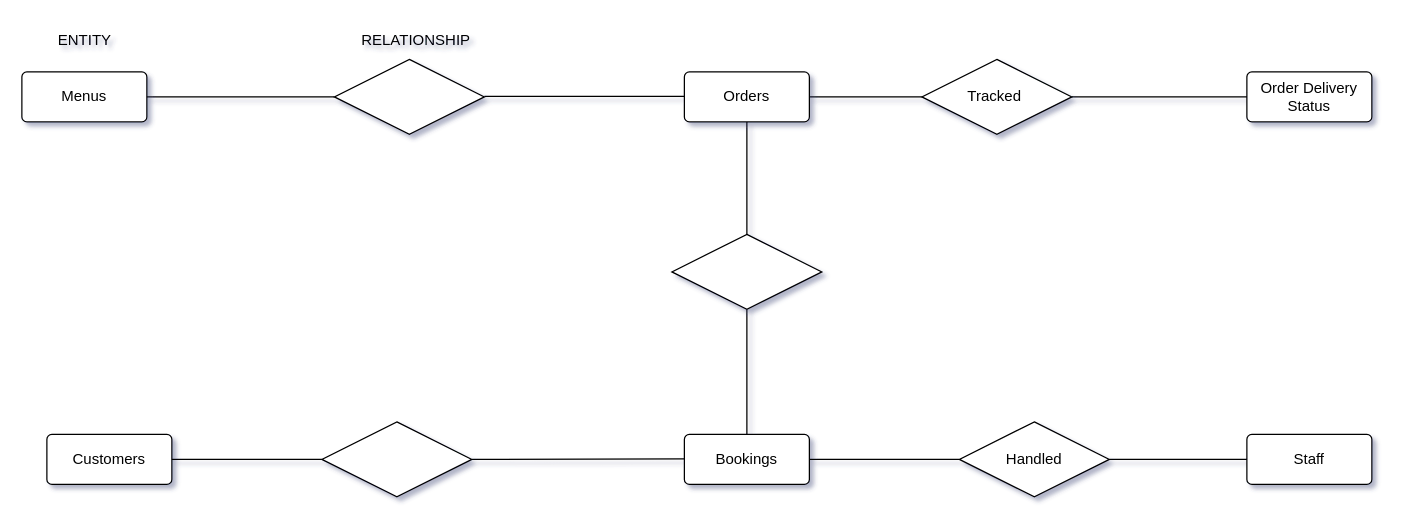
This 1401x526 diagram has some shape labels left out. The shapes that lost their labels are listed below. From the top down, each one's box as (x1, y1, x2, y2) in pixels, then its label:
(333, 58, 484, 134): Ordered
(671, 233, 822, 309): Placed
(321, 421, 472, 497): Reserved
